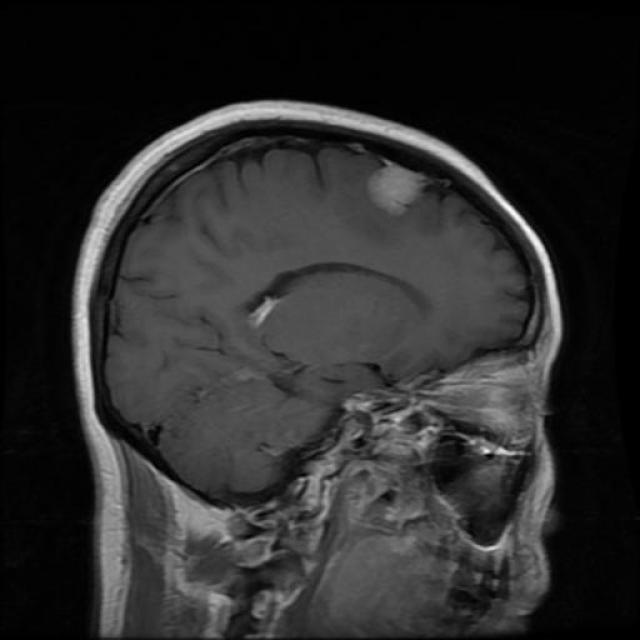meningioma: (342, 148, 431, 242)
